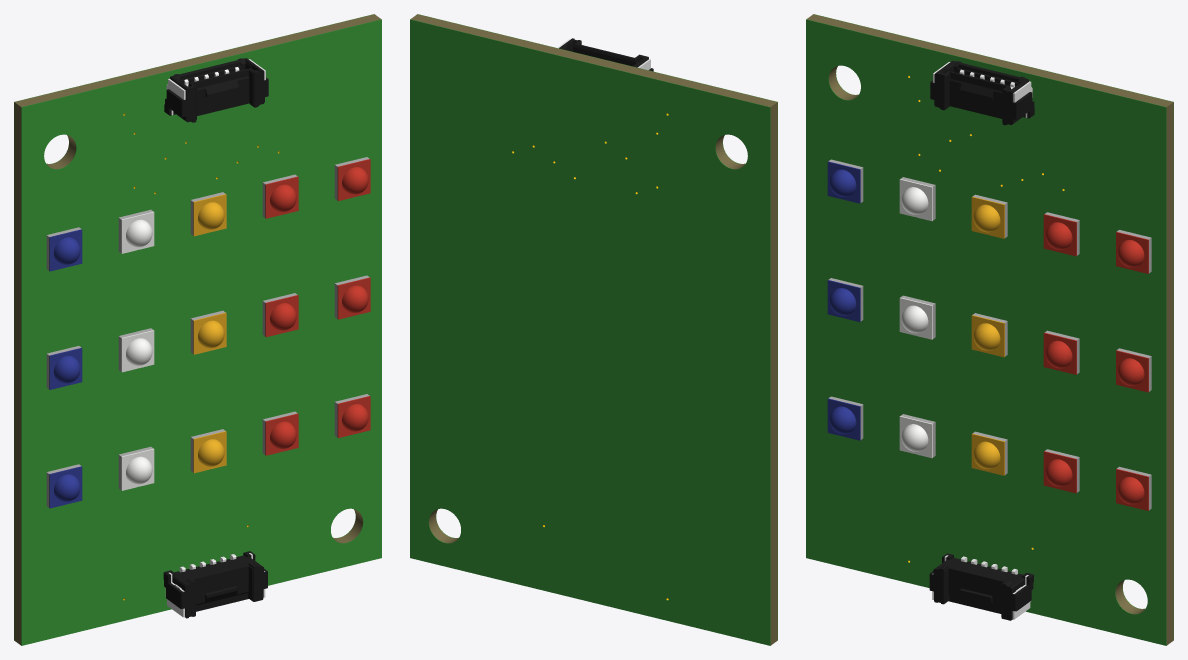
The model's file is lighting_led_brd.fbx.
The picture shows the model from 3 angles, left to right: view 1: azimuth 30°, elevation 25°; view 2: azimuth 150°, elevation 25°; view 3: azimuth 330°, elevation 25°; orthographic projection.
Parts seen in each view (by area): view 1: Body1 (×2), Body2 (×15), Body3 (×15), Body15 (×2), Board; view 2: Body1 (×2), Board, Body15; view 3: Body1 (×2), Body2 (×15), Body3 (×15), Body15 (×2), Board.
Boxes of the visible parts, left/top/right/bottom form: Body1 (×2): left=14, top=14, right=381, bottom=645; Body2 (×15): left=49, top=159, right=370, bottom=508; Body3 (×15): left=53, top=167, right=368, bottom=501; Body15 (×2): left=163, top=58, right=268, bottom=618; Board: left=14, top=14, right=380, bottom=645; Body1 (×2): left=410, top=14, right=777, bottom=645; Board: left=411, top=14, right=777, bottom=645; Body15: left=559, top=38, right=653, bottom=71; Body1 (×2): left=806, top=14, right=1173, bottom=645; Body2 (×15): left=827, top=161, right=1148, bottom=510; Body3 (×15): left=829, top=169, right=1144, bottom=504; Body15 (×2): left=929, top=60, right=1034, bottom=620; Board: left=807, top=14, right=1173, bottom=645.
Size of the model in its own units: 4.44 by 6.35 by 0.5505.
